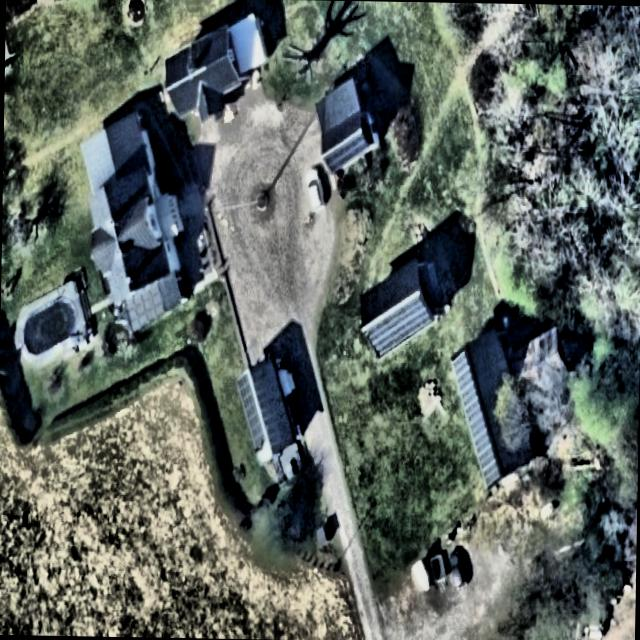roof_pv: (457, 398, 502, 492), (396, 291, 429, 348), (368, 304, 396, 364), (449, 348, 479, 398), (241, 404, 268, 450), (236, 372, 260, 406)
